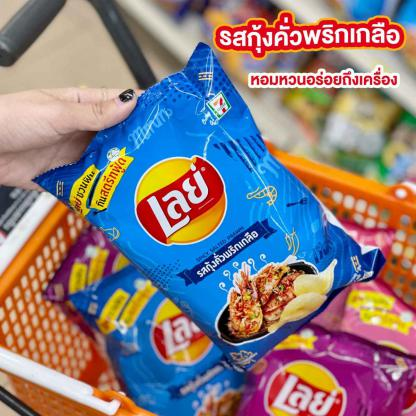potatochip: (19, 37, 393, 383), (40, 183, 244, 382), (64, 241, 275, 416), (286, 232, 416, 416), (209, 314, 416, 416)
